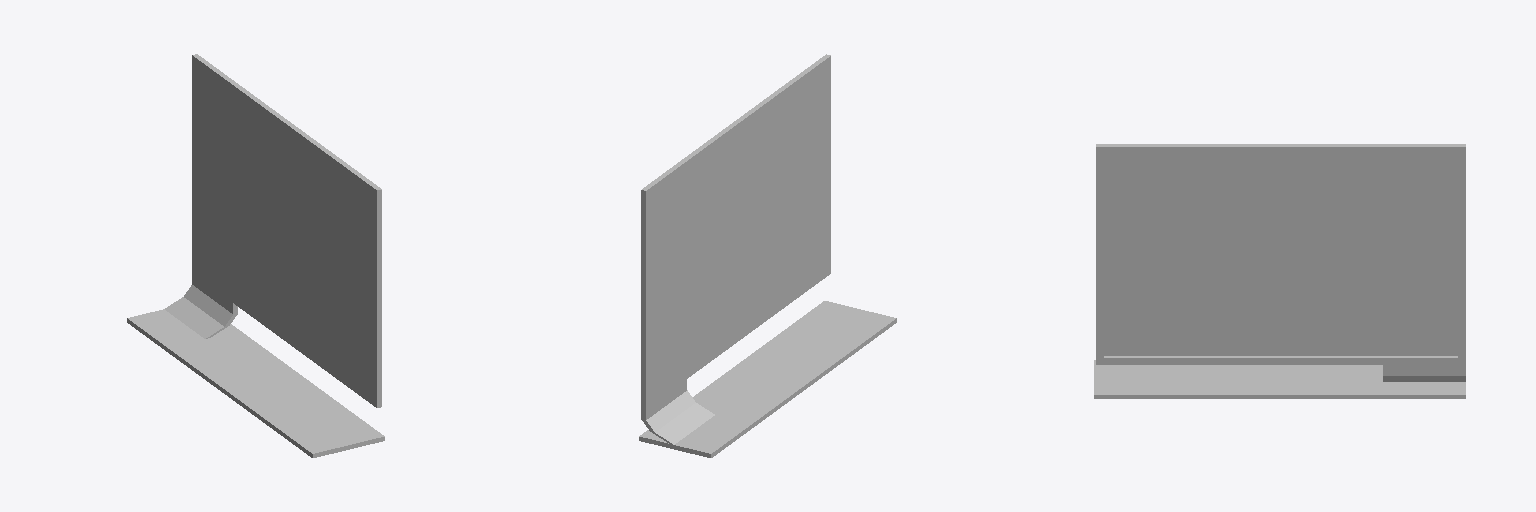
The model's file is Low_Poly_Monitor.obj.
The picture shows the model from 3 angles: view 1: azimuth 30°, elevation 25°; view 2: azimuth 150°, elevation 25°; view 3: azimuth 270°, elevation 25°; orthographic projection.
Parts seen in each view (by area): view 1: pCube1; view 2: pCube1; view 3: pCube1.
Part boxes in pixels (bbox=[...]): pCube1: bbox=[127, 54, 384, 457]; pCube1: bbox=[639, 54, 896, 457]; pCube1: bbox=[1094, 144, 1465, 398].
Bounding box in the file's own units: 3.14 × 10.45 × 13.96.